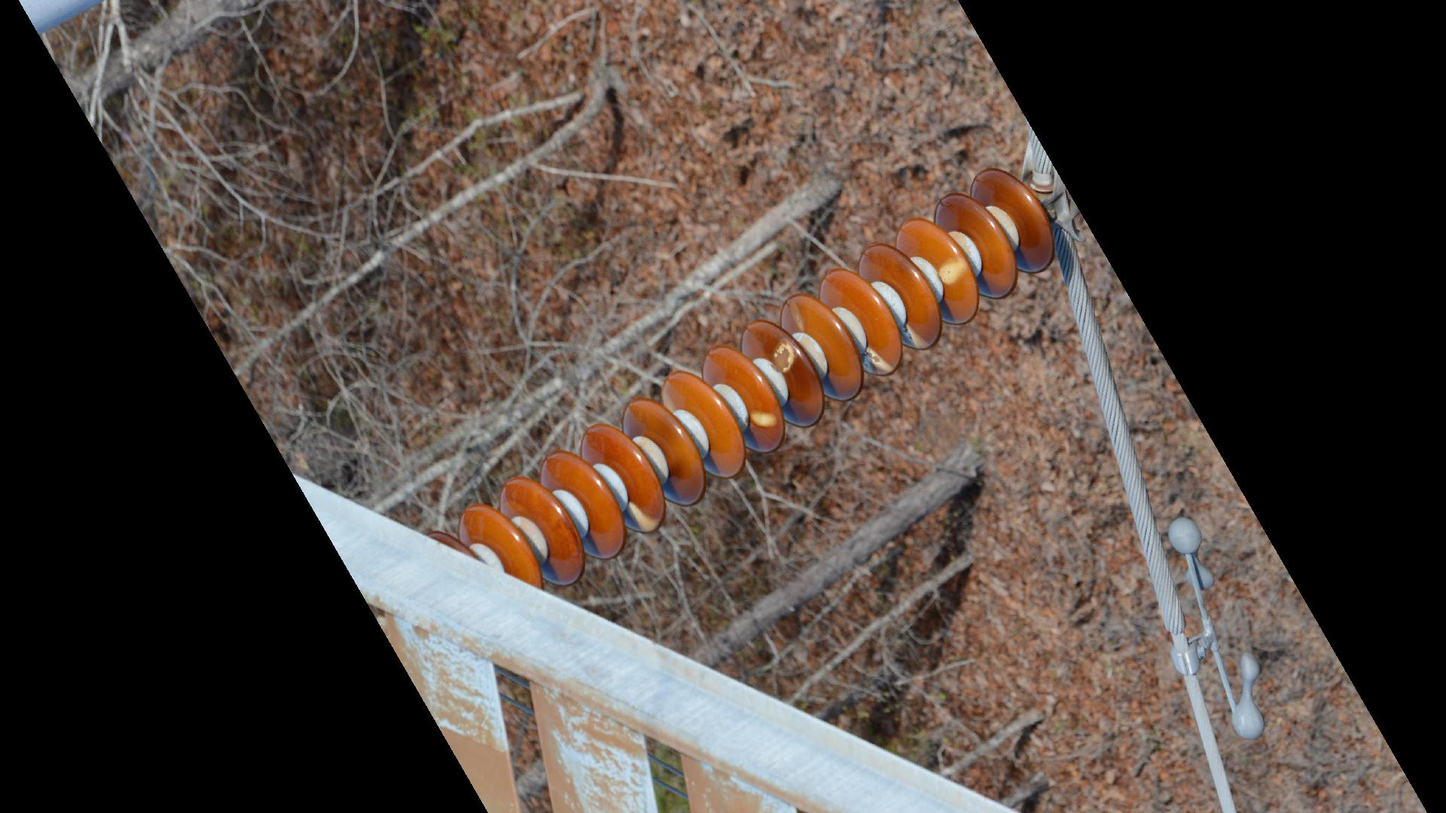insulator: (425, 163, 1060, 593)
insulator_flashover: (623, 498, 664, 535), (859, 345, 897, 379), (770, 336, 799, 374), (936, 254, 969, 287), (900, 323, 929, 352), (747, 408, 781, 431)
